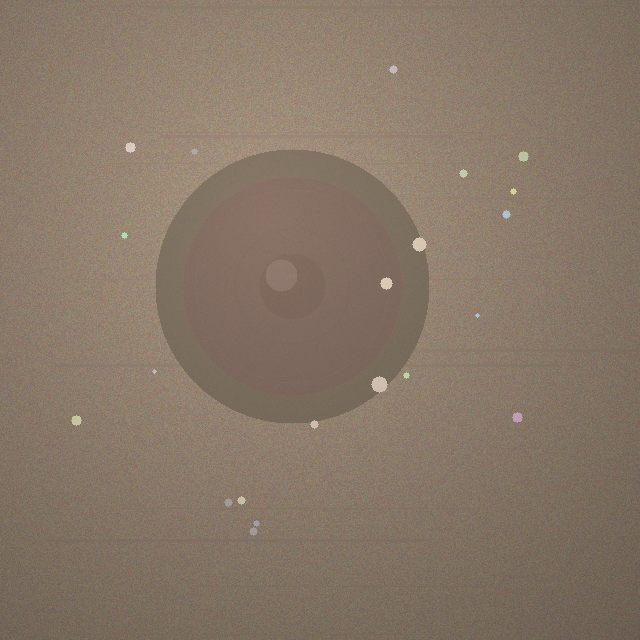overburn: (155, 149, 429, 423)
